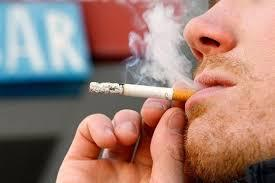smoke: (89, 82, 205, 102)
